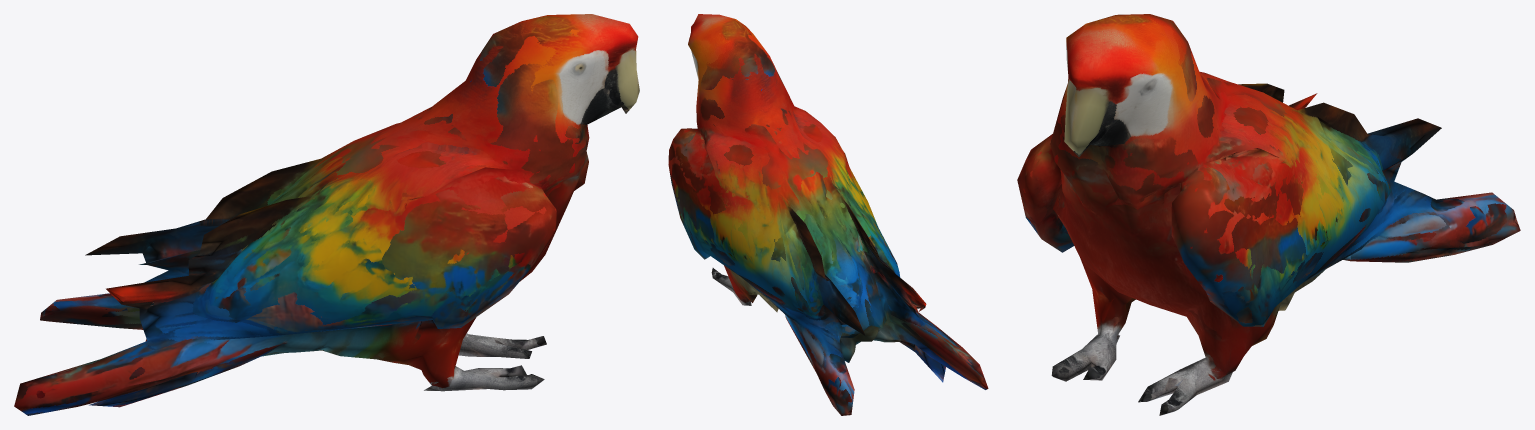
Rendered from parrot_single_1500.glb.
The picture shows the model from 3 angles, left to right: view 1: azimuth 30°, elevation 25°; view 2: azimuth 150°, elevation 25°; view 3: azimuth 270°, elevation 25°; orthographic projection. The views are drawn at different scales.
Size of the model in its own units: 0.8556 by 0.5541 by 0.6193.
1 material, 1 textured.
